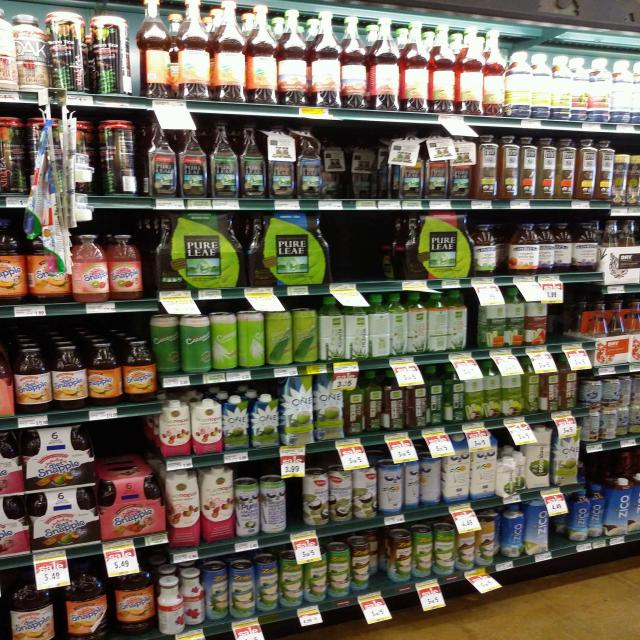void: (552, 284, 594, 352), (354, 212, 385, 295), (388, 212, 416, 295), (331, 213, 353, 294), (131, 408, 157, 476), (550, 497, 574, 566), (102, 414, 127, 472)
